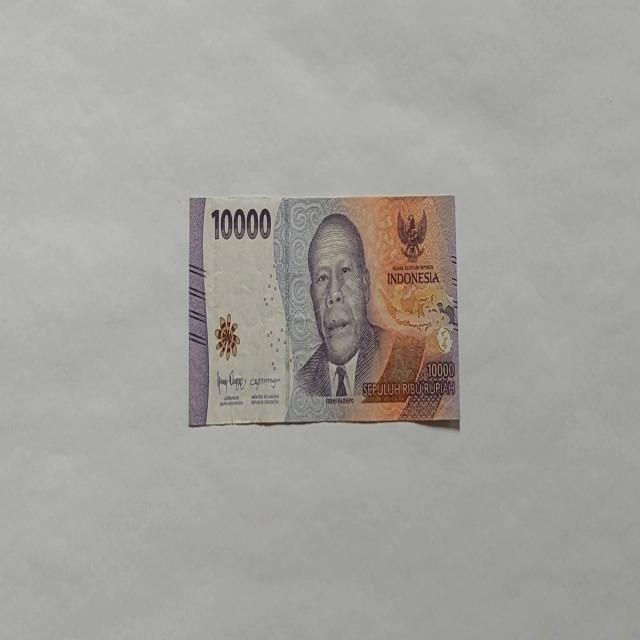sepuluh ribu rupiah: (188, 192, 460, 428), (284, 210, 426, 420)
